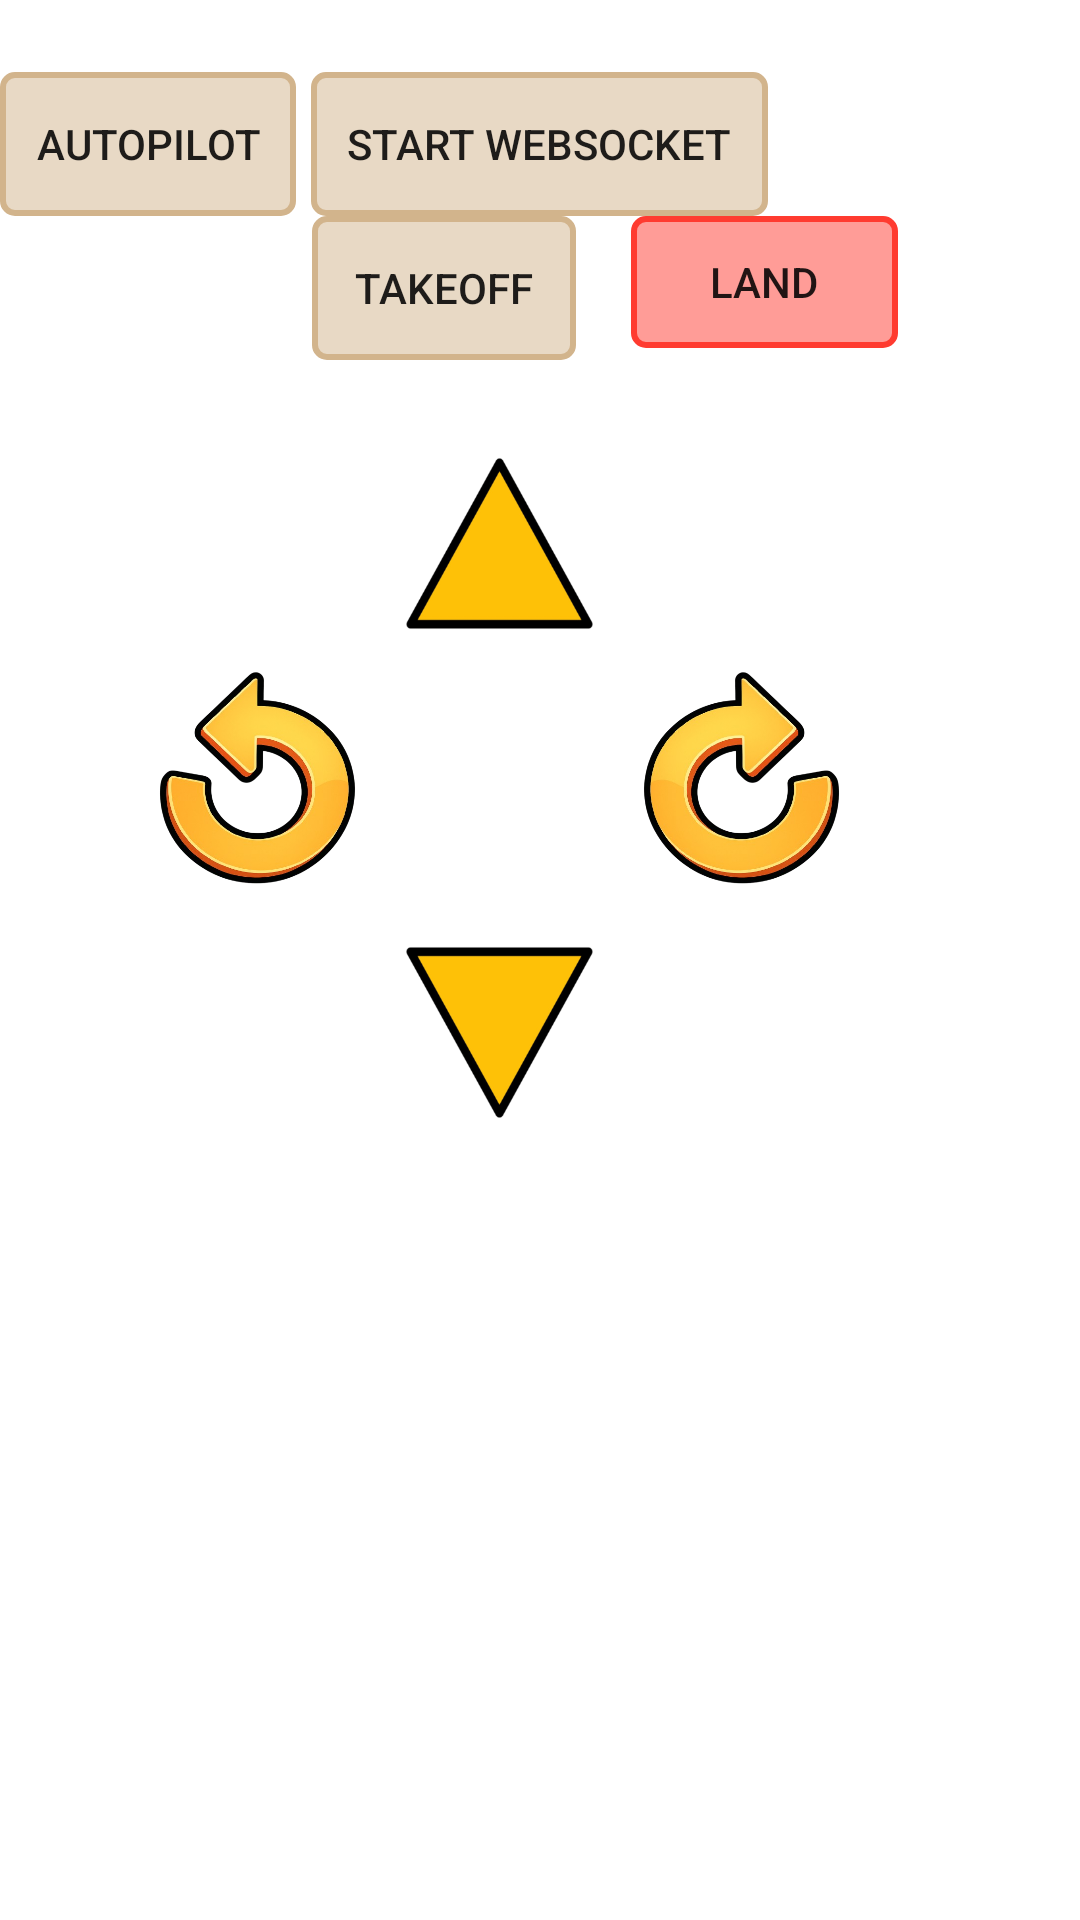

Icons on this 1080 × 1920 Android screen, each with the point to tap as [x,y]:
leftrotate: [257,778]
rightrotate: [741,778]
